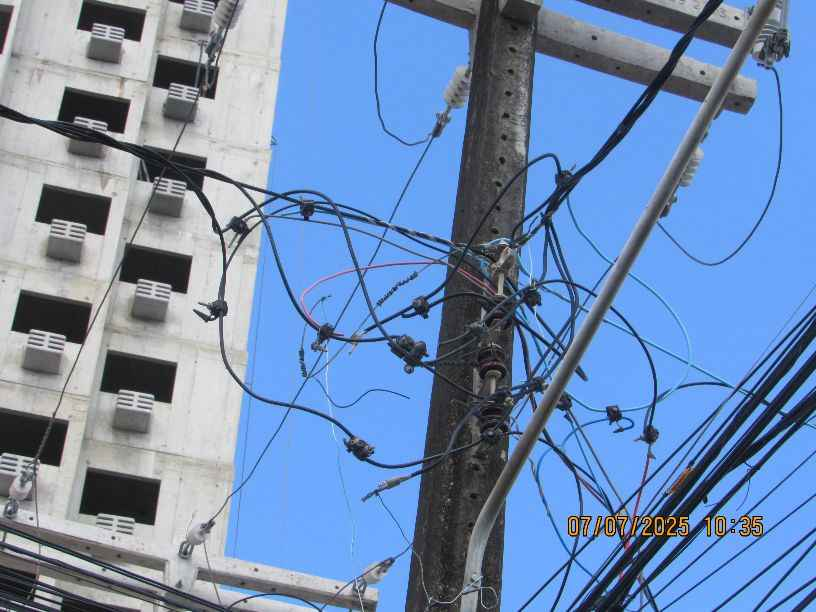fibra_optica: (607, 448, 742, 565)
